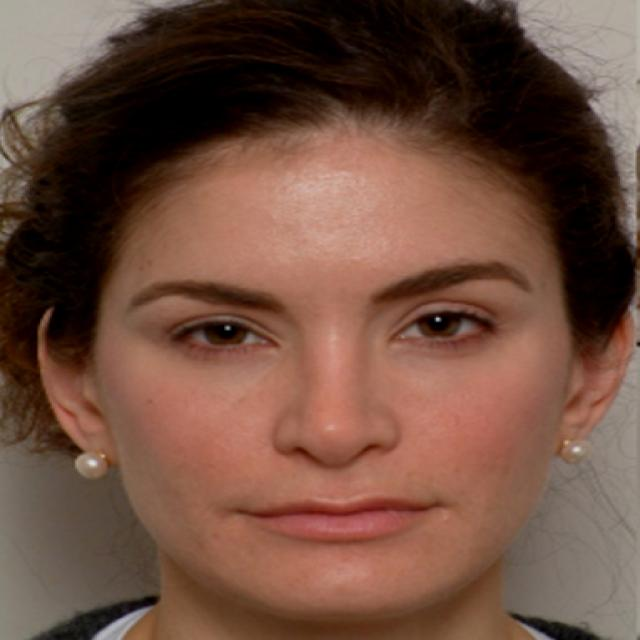normal_face: (49, 30, 611, 618)
